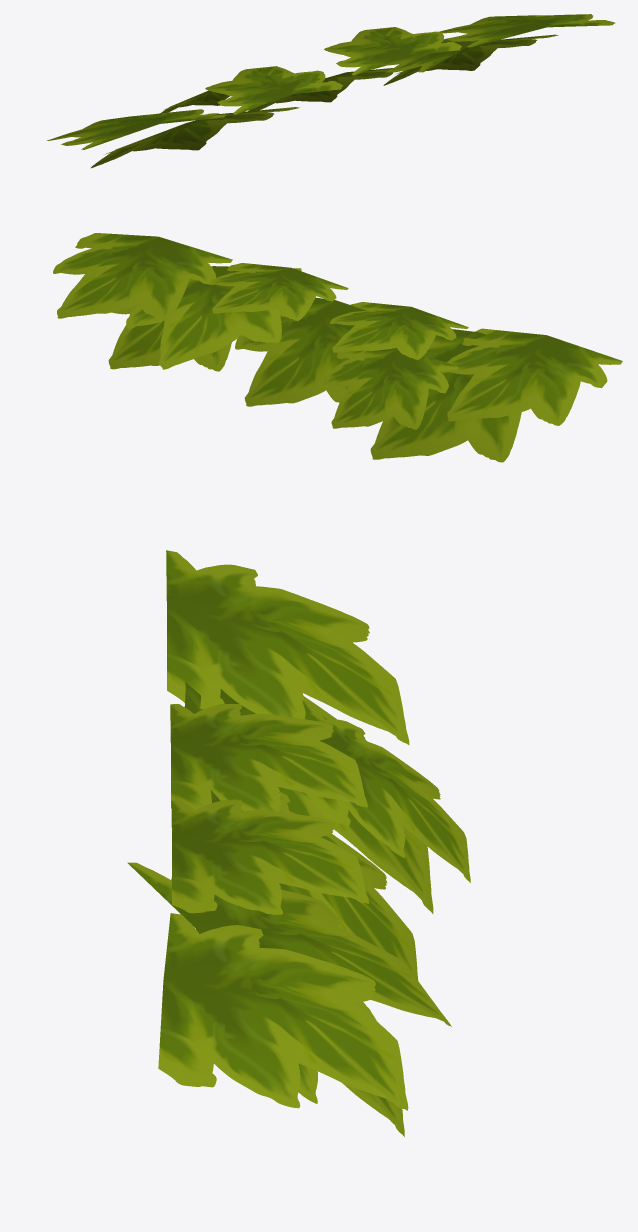
The model's file is SM_LeafOverlay.fbx.
3 renders of one model, top to bottom at view 1: azimuth 30°, elevation 25°; view 2: azimuth 150°, elevation 25°; view 3: azimuth 270°, elevation 25°, orthographic. The views are drawn at different scales.
Parts seen in each view (by area): view 1: Foliage_Overlay; view 2: Foliage_Overlay; view 3: Foliage_Overlay.
Boxes of the visible parts, x1=… form: Foliage_Overlay: x1=47, y1=14, x2=615, y2=168; Foliage_Overlay: x1=53, y1=233, x2=622, y2=462; Foliage_Overlay: x1=127, y1=550, x2=470, y2=1136.
Size of the model in its own units: 219 by 711 by 167.
